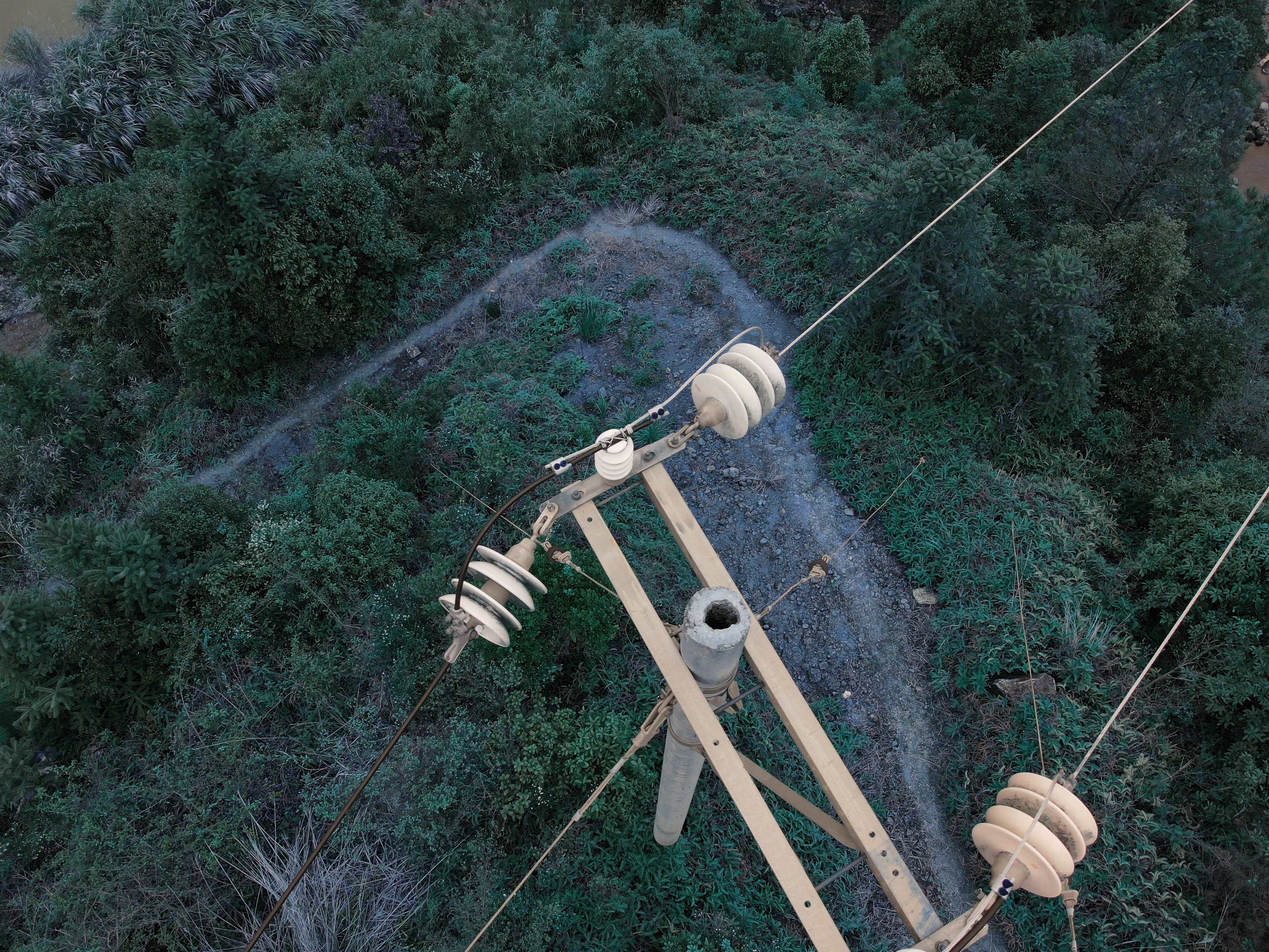severe_soiling_no_discharge_whole: (972, 767, 1102, 900), (440, 538, 553, 651), (687, 340, 788, 443)
